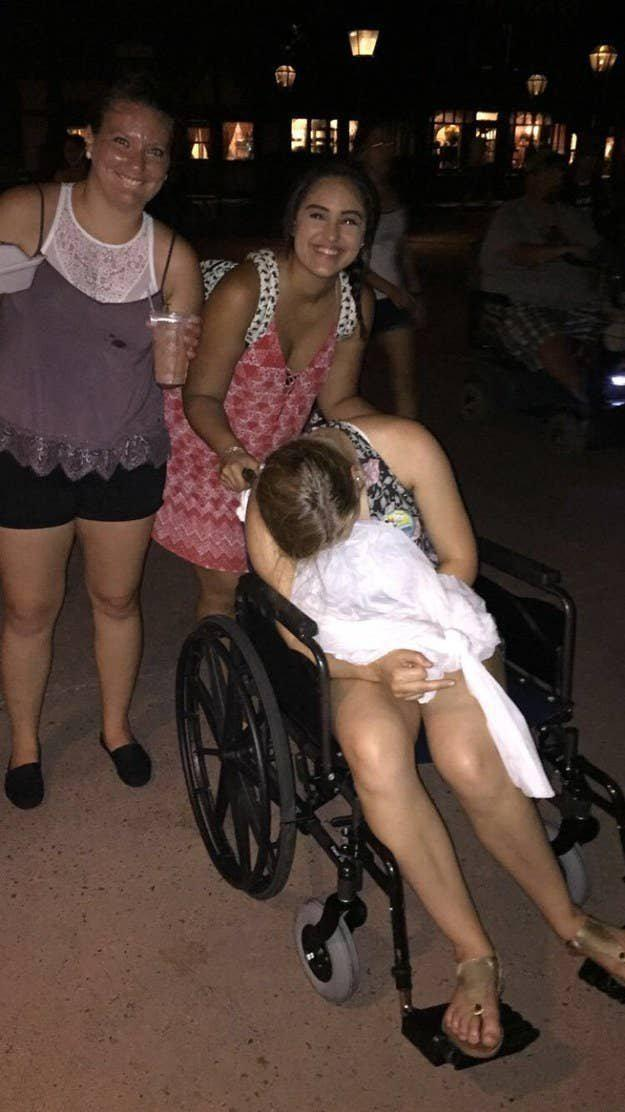Drunk: (93, 108, 167, 203), (303, 178, 365, 271)
